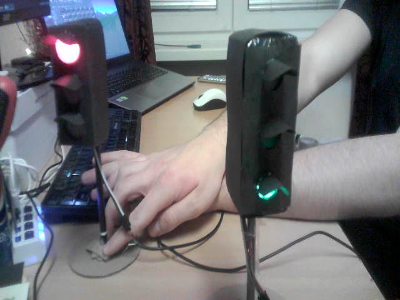trafficlight_green: (245, 40, 295, 208)
trafficlight_red: (51, 32, 89, 143)
